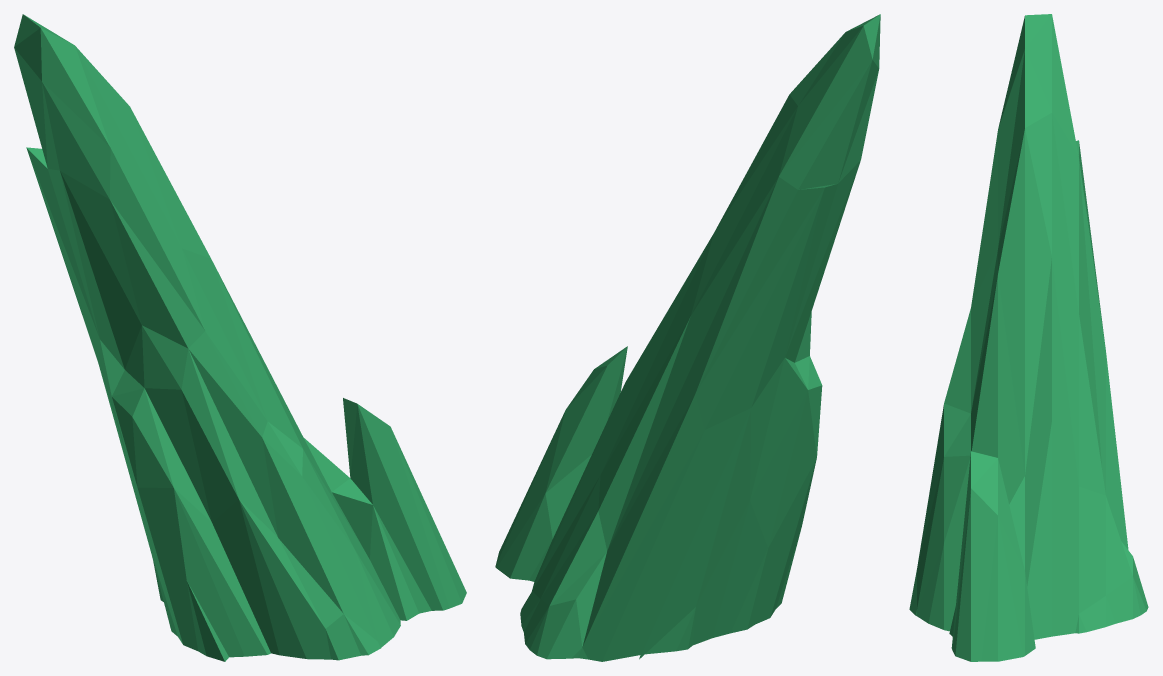
The model's file is Rock_Large_Gem_Jade_Emerald_Spike_02.FBX.
The picture shows the model from 3 angles, left to right: view 1: azimuth 30°, elevation 25°; view 2: azimuth 150°, elevation 25°; view 3: azimuth 270°, elevation 25°; orthographic projection. The views are drawn at different scales.
Parts seen in each view (by area): view 1: Rock_Large_Gem_Jade_Emerald_Spike_02; view 2: Rock_Large_Gem_Jade_Emerald_Spike_02; view 3: Rock_Large_Gem_Jade_Emerald_Spike_02.
Boxes of the visible parts, x1,y1,x2,y2 form: Rock_Large_Gem_Jade_Emerald_Spike_02: (14, 14, 466, 661); Rock_Large_Gem_Jade_Emerald_Spike_02: (495, 14, 880, 661); Rock_Large_Gem_Jade_Emerald_Spike_02: (909, 14, 1148, 661).
Bounding box in the file's own units: 10822 × 16541 × 7139.
